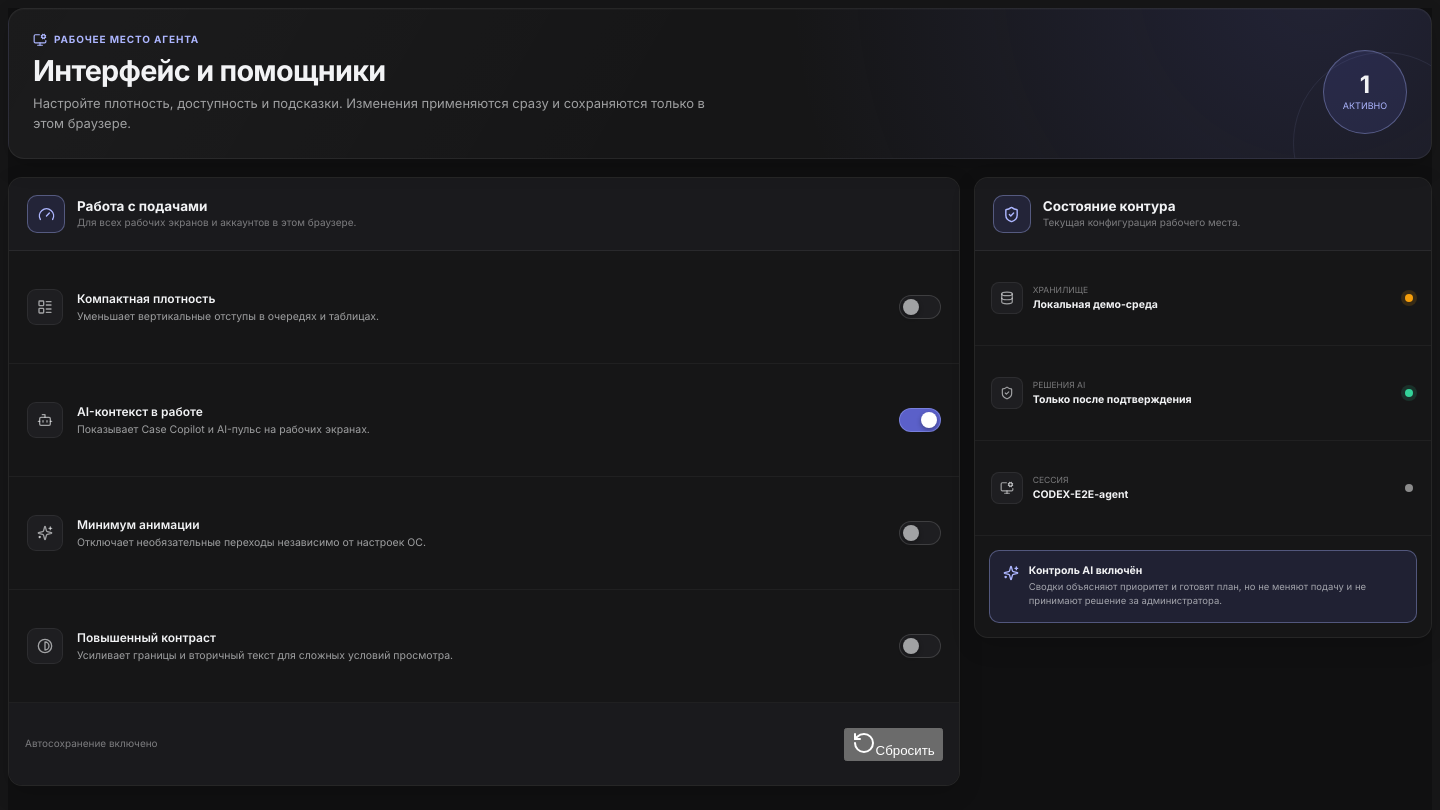
Test: agent interaction contract › rolls back a preference when browser persistence fails
Click the switch named "Компактная плотность" at (920, 307), box [899,295,941,319]
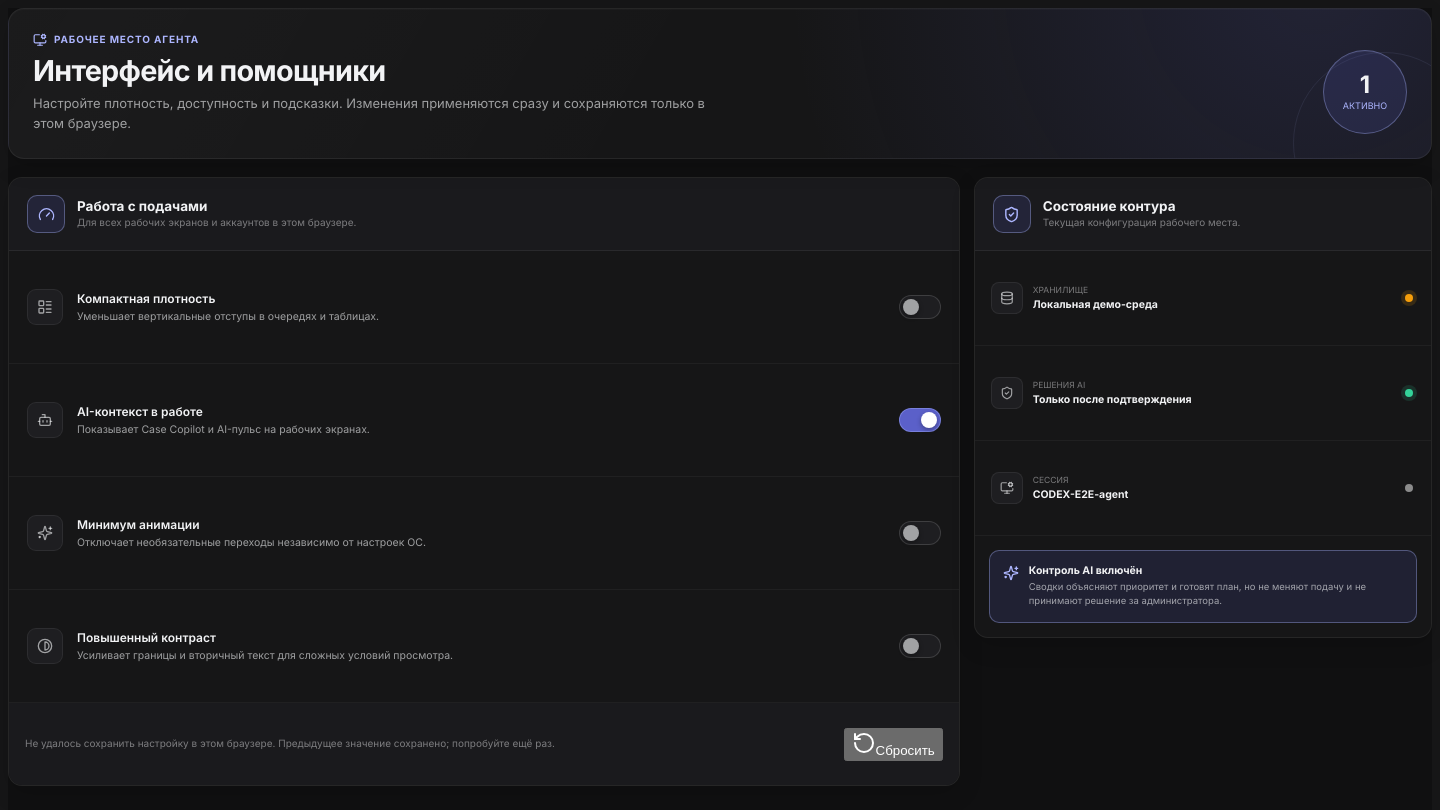
Expected: the message shows "Предыдущее значение сохранено; попробуйте ещё раз", [25,738,555,750]
